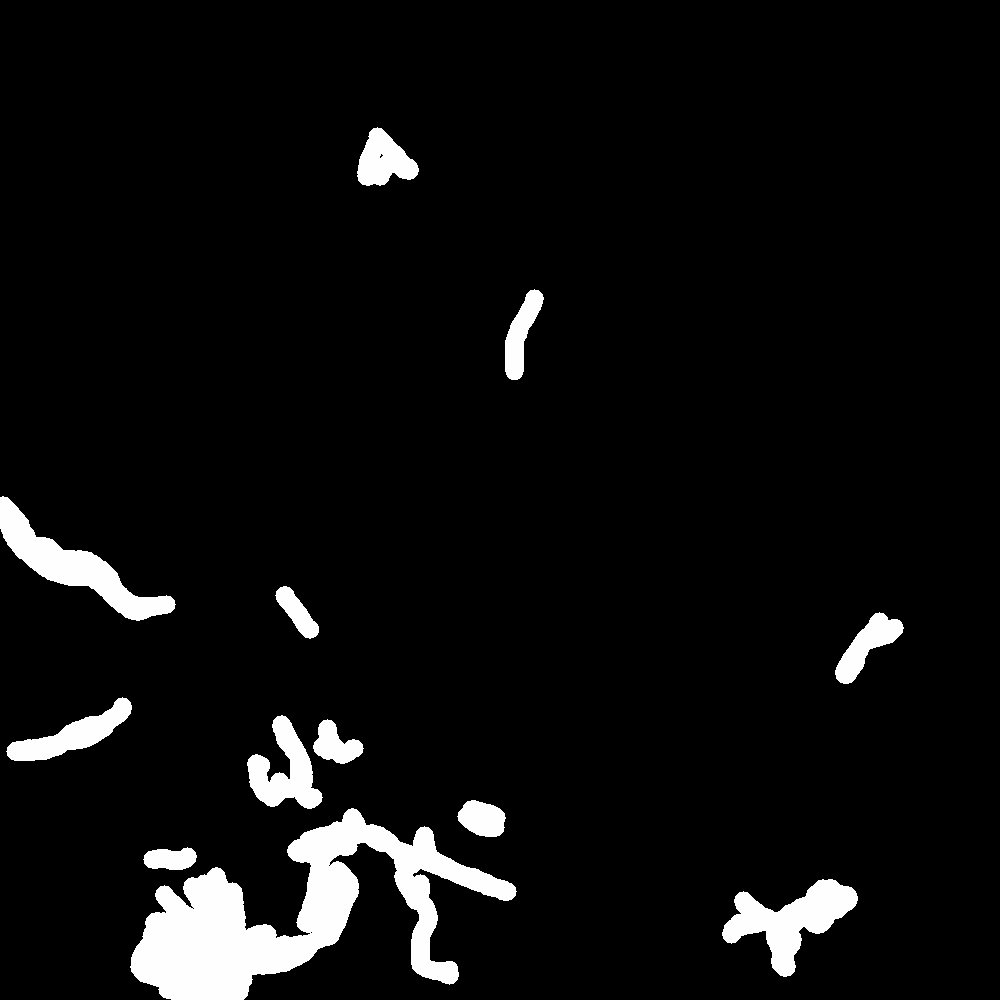illegal: (1, 495, 176, 621), (14, 693, 152, 768), (400, 824, 450, 976), (775, 878, 853, 964), (142, 849, 197, 881), (278, 582, 301, 619), (493, 880, 521, 898)
